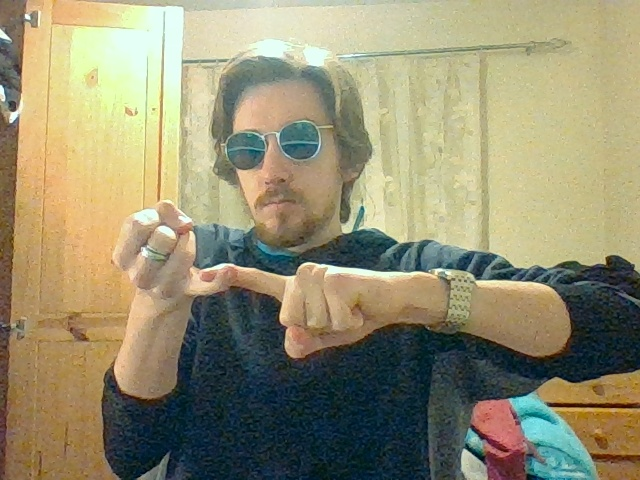step: (111, 200, 360, 358)
